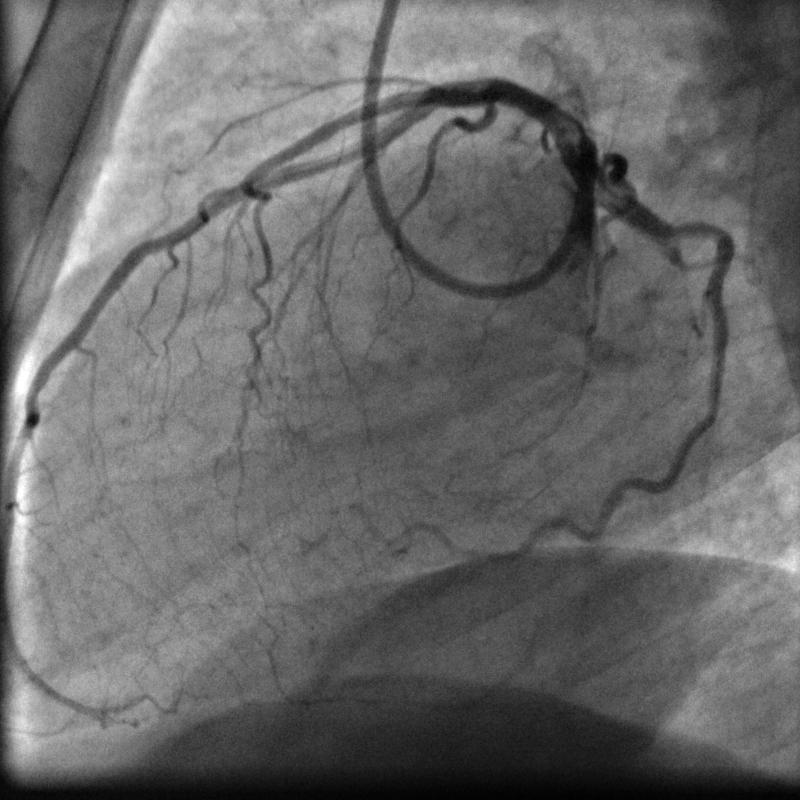Stenosis: (466, 73, 510, 131)
